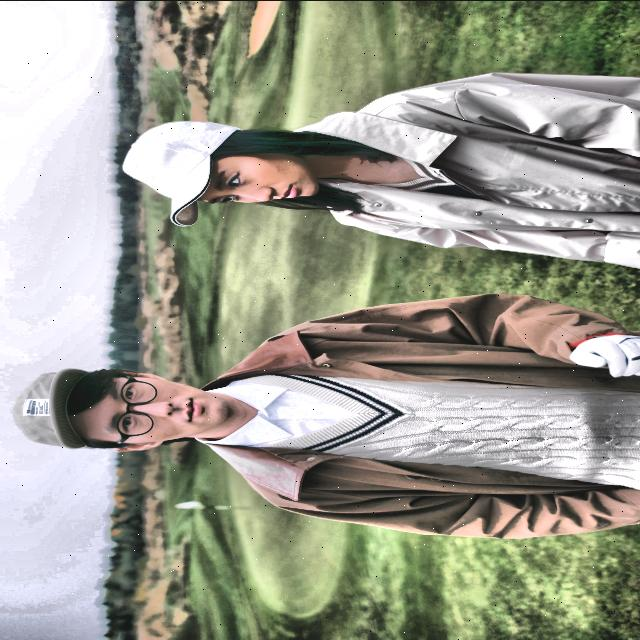gloved: (557, 316, 640, 377)
